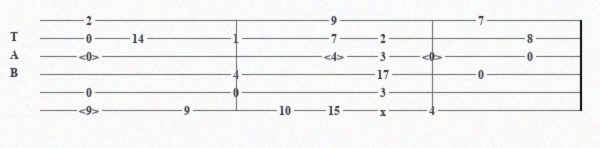0: (86, 32, 96, 45), (86, 86, 96, 99), (233, 86, 243, 99), (478, 68, 488, 81), (527, 50, 537, 63)
1: (233, 32, 243, 45)
10: (279, 104, 295, 117)
14: (132, 32, 148, 45)
15: (328, 104, 344, 117)
17: (377, 68, 393, 81)
2: (86, 14, 96, 27), (380, 32, 390, 45)
3: (380, 86, 390, 99), (380, 50, 390, 63)
4: (233, 68, 243, 81), (429, 104, 439, 117)
7: (331, 32, 341, 45), (478, 14, 488, 27)
8: (527, 32, 537, 45)
9: (184, 104, 194, 117), (331, 14, 341, 27)
harmonic: (79, 104, 103, 117), (79, 50, 103, 63), (324, 50, 348, 63), (422, 50, 446, 63)
x: (380, 105, 390, 115)
